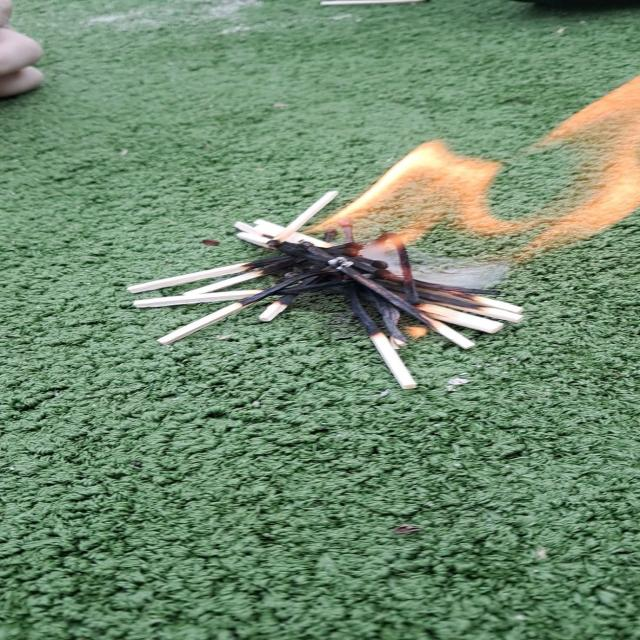fire: (306, 76, 640, 260)
